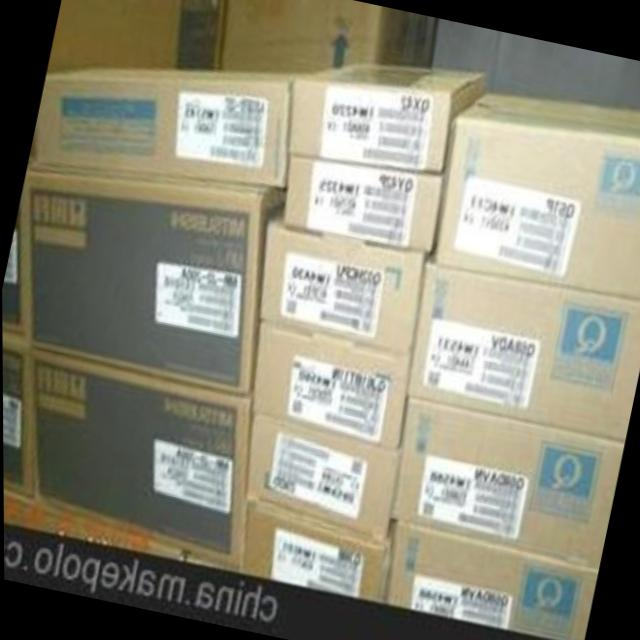box: (21, 164, 284, 396), (24, 345, 249, 572), (406, 249, 640, 442), (435, 91, 640, 297), (391, 398, 623, 569), (283, 62, 487, 252), (34, 67, 288, 188), (383, 519, 597, 640), (259, 212, 425, 355), (250, 321, 410, 448), (246, 412, 397, 538), (241, 498, 390, 604), (220, 0, 438, 71), (46, 0, 224, 74), (2, 338, 28, 499)
